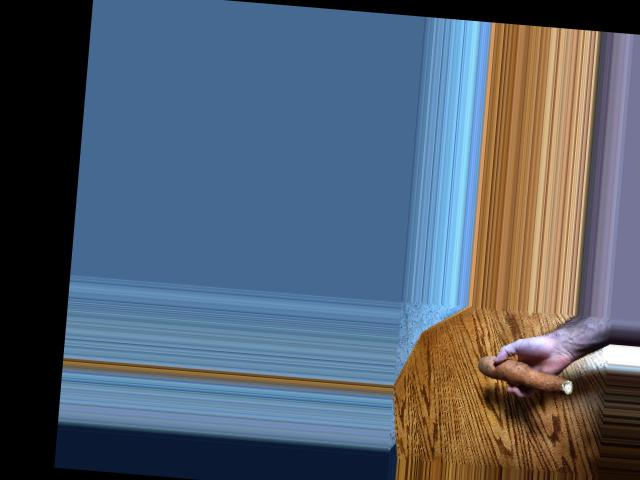sweet_potato: (472, 358, 582, 397)
